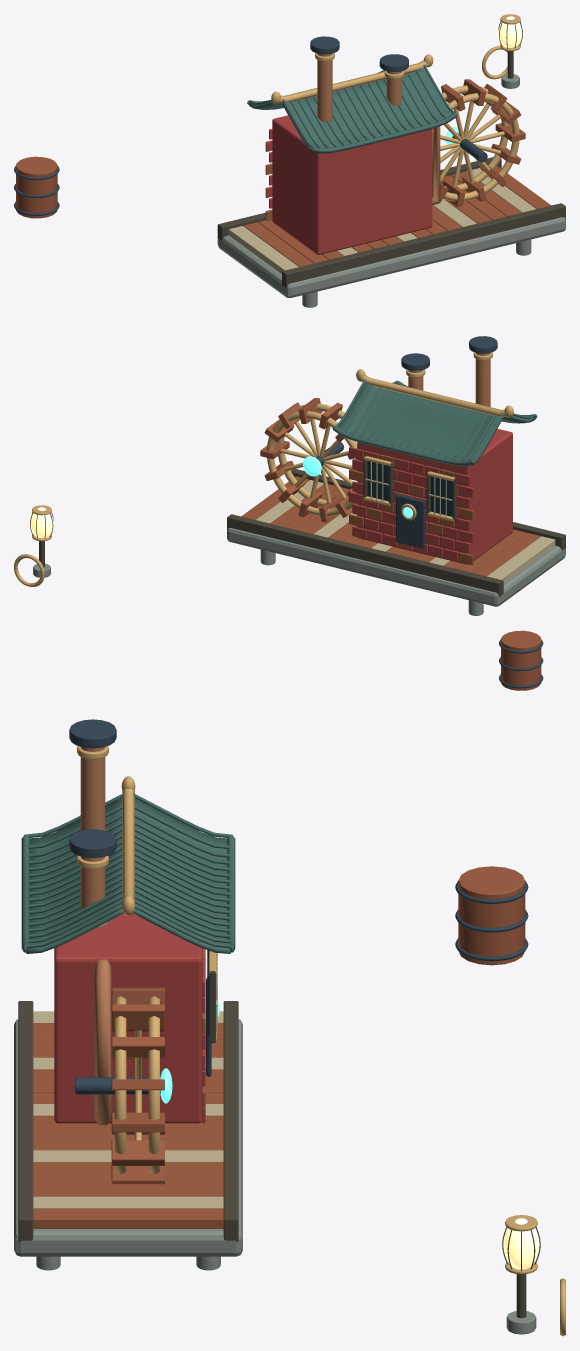
Rendered from clockwork.glb.
The picture shows the model from 3 angles, top to bottom: view 1: azimuth 30°, elevation 25°; view 2: azimuth 150°, elevation 25°; view 3: azimuth 270°, elevation 25°; orthographic projection. The views are drawn at different scales.
Visible parts, largest first — view 1: Brick engine house, Copper engine roof roof shell, Foundation stone, Mortised deck edge, Fuel barrel, Individual deck plank, Wheel brass rim, Copper chimney, Copper engine roof ridge, Individual deck plank.001, Copper engine roof rolled eave, Mortised deck edge.001 (+13 smaller); view 2: Brick engine house, Copper engine roof roof shell, Foundation stone, Mortised deck edge.001, Fuel barrel, Boiler door, Wheel brass rim.001, Copper engine roof ridge, Individual deck plank, Individual deck plank.001, Mortised deck edge, Copper engine roof rolled eave.001 (+10 smaller); view 3: Brick engine house, Copper engine roof roof shell, Foundation stone, Fuel barrel, Individual deck plank.017, Mortised deck edge, Mortised deck edge.001, Sweeping boiler pipe, Individual deck plank.016, Individual deck plank.015, Copper chimney, Individual deck plank.014 (+38 smaller).
Boxes of the visible parts, bbox=[...] form: Brick engine house: bbox=[272, 115, 432, 254]; Copper engine roof roof shell: bbox=[249, 68, 452, 153]; Foundation stone: bbox=[217, 217, 565, 297]; Mortised deck edge: bbox=[282, 203, 565, 288]; Fuel barrel: bbox=[16, 156, 57, 218]; Individual deck plank: bbox=[228, 226, 298, 273]; Wheel brass rim: bbox=[443, 93, 519, 201]; Copper chimney: bbox=[317, 53, 332, 122]; Copper engine roof ridge: bbox=[279, 60, 428, 103]; Individual deck plank.001: bbox=[243, 222, 313, 266]; Copper engine roof rolled eave: bbox=[313, 113, 456, 153]; Mortised deck edge.001: bbox=[217, 157, 501, 240]; Brick engine house: bbox=[357, 428, 512, 564]; Copper engine roof roof shell: bbox=[337, 382, 535, 466]; Foundation stone: bbox=[227, 528, 565, 606]; Mortised deck edge.001: bbox=[227, 514, 503, 597]; Fuel barrel: bbox=[501, 630, 541, 690]; Boiler door: bbox=[396, 494, 425, 548]; Wheel brass rim.001: bbox=[267, 411, 357, 516]; Copper engine roof ridge: bbox=[360, 375, 506, 416]; Individual deck plank: bbox=[487, 536, 555, 582]; Individual deck plank.001: bbox=[472, 532, 540, 576]; Mortised deck edge: bbox=[291, 469, 565, 550]; Copper engine roof rolled eave.001: bbox=[334, 426, 471, 465]; Brick engine house: bbox=[54, 913, 202, 1123]; Copper engine roof roof shell: bbox=[26, 798, 230, 953]; Foundation stone: bbox=[14, 1019, 242, 1256]; Fuel barrel: bbox=[458, 866, 525, 965]; Individual deck plank.017: bbox=[33, 1208, 223, 1228]; Mortised deck edge: bbox=[18, 1001, 33, 1241]; Mortised deck edge.001: bbox=[223, 1001, 238, 1241]; Sweeping boiler pipe: bbox=[94, 959, 111, 1125]; Individual deck plank.016: bbox=[33, 1196, 223, 1208]; Individual deck plank.015: bbox=[33, 1185, 223, 1196]; Copper chimney: bbox=[80, 747, 105, 830]; Individual deck plank.014: bbox=[33, 1173, 223, 1185].
Bounding box in the file's own units: 4.85 × 2.19 × 2.8.
